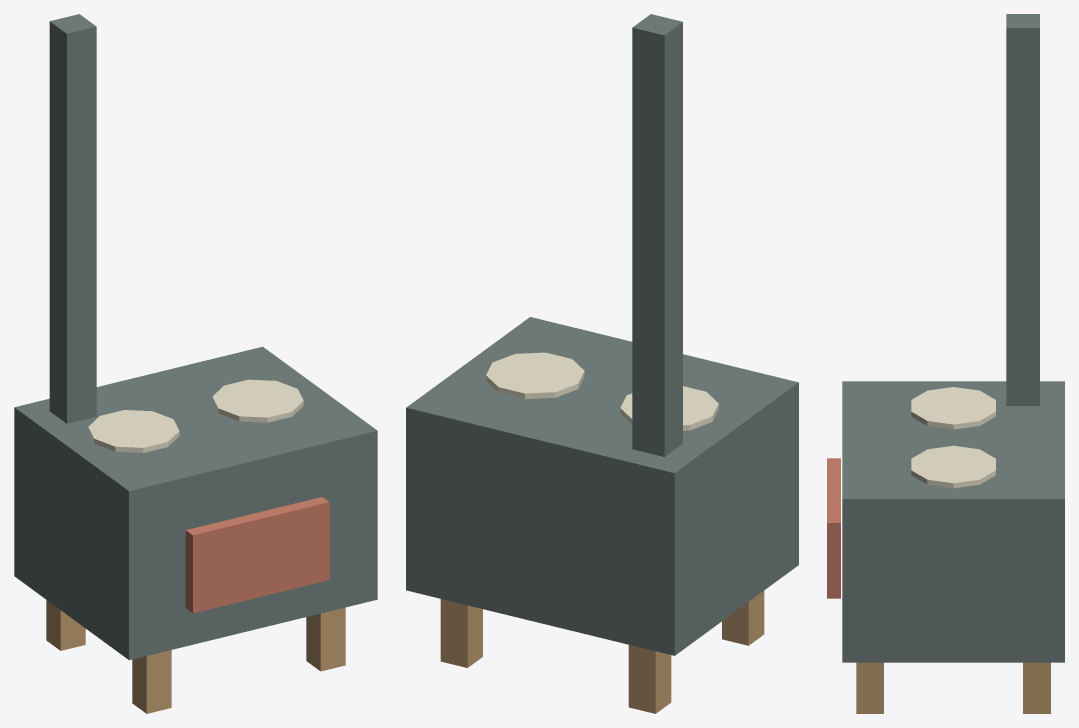
Rendered from cozy-farm-and-homestead-wood-cookstove-371d20e7__19420.glb.
3 renders of one model, left to right at view 1: azimuth 30°, elevation 25°; view 2: azimuth 150°, elevation 25°; view 3: azimuth 270°, elevation 25°, orthographic. The views are drawn at different scales.
Visible parts, largest first — view 1: wood-cookstove; view 2: wood-cookstove; view 3: wood-cookstove.
Boxes of the visible parts, x1,y1,x2,y2 form: wood-cookstove: [14, 14, 377, 713]; wood-cookstove: [406, 14, 798, 713]; wood-cookstove: [827, 14, 1064, 713].
Size of the model in its own units: 1 by 2.4 by 0.855.
